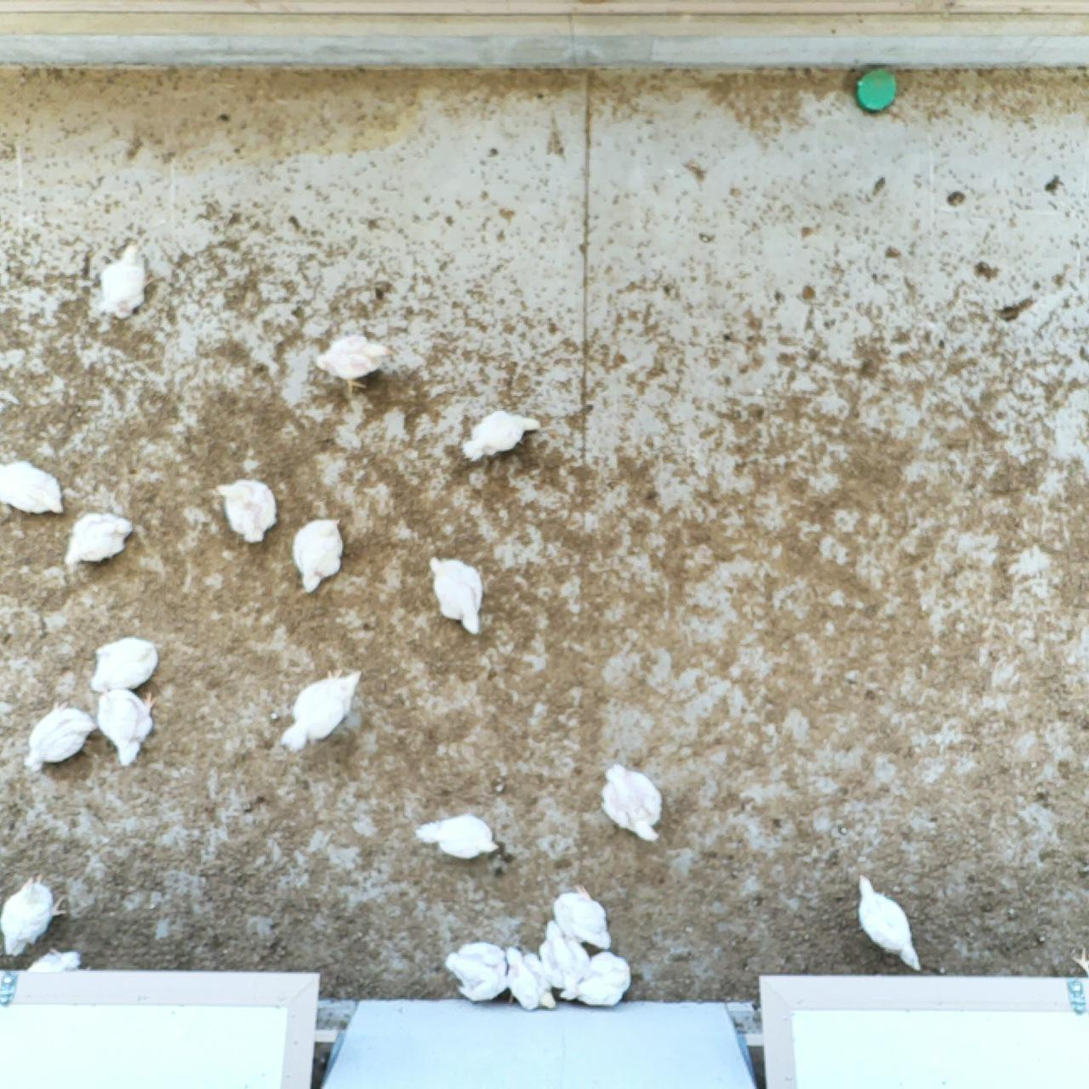chicken: (279, 666, 365, 757), (855, 871, 924, 974), (314, 328, 396, 404), (94, 686, 164, 772), (0, 872, 70, 958), (598, 759, 667, 843), (22, 698, 97, 774), (457, 400, 543, 466), (94, 237, 162, 319), (426, 552, 490, 637), (215, 472, 282, 547), (547, 882, 616, 954), (289, 515, 348, 596), (559, 948, 635, 1008), (61, 509, 138, 568), (537, 918, 592, 1000), (86, 633, 161, 693), (414, 810, 501, 861), (443, 939, 510, 1005), (0, 459, 68, 519), (502, 944, 560, 1013), (25, 945, 94, 976)
